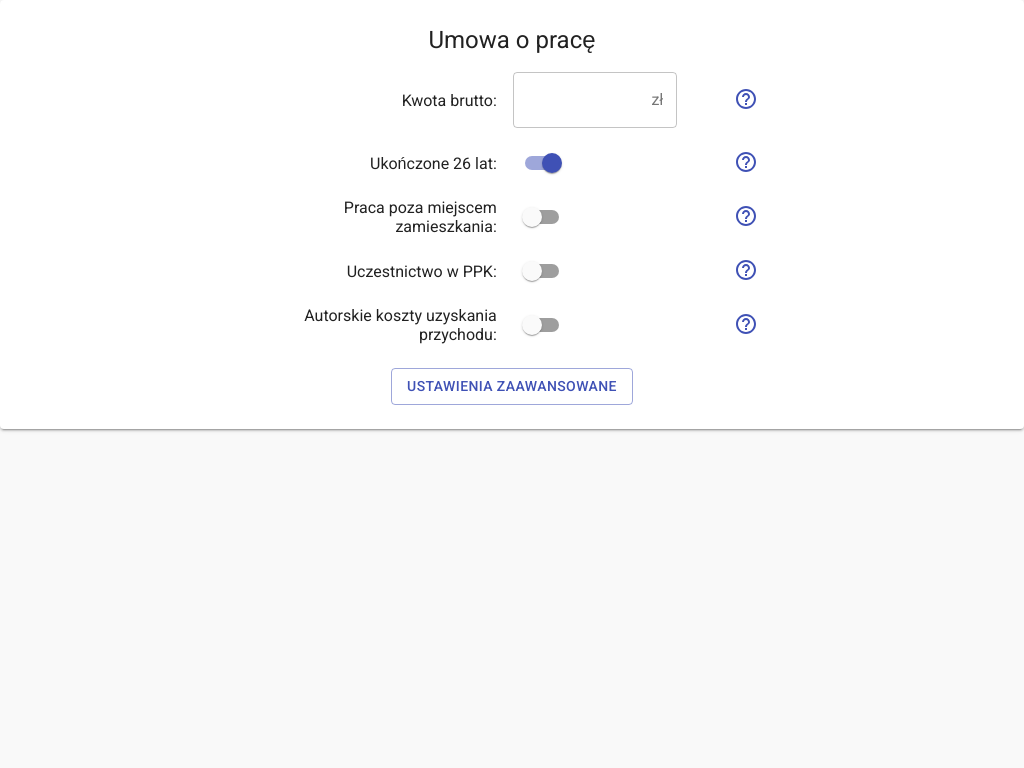
Test: Employment component › opens detailed settings on button click
Click the button "Ustawienia zaawansowane": point(512, 387) [391, 368, 633, 405]
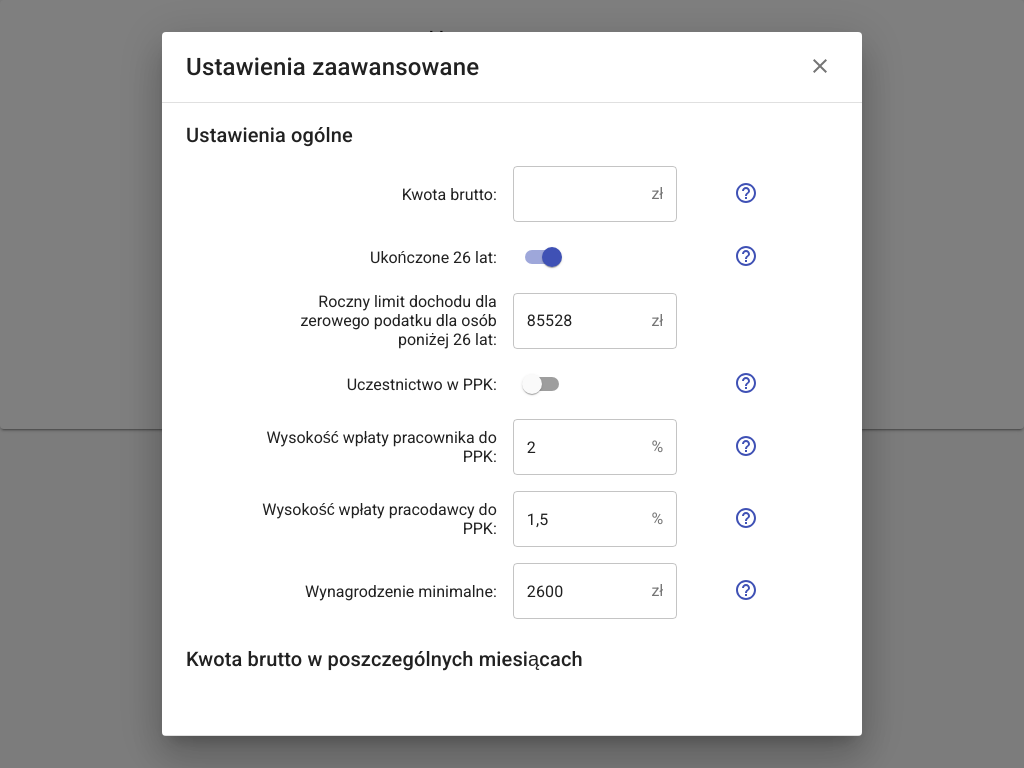
expect the dialog shows "Ustawienia zaawansowane": met, box [186, 53, 479, 81]
